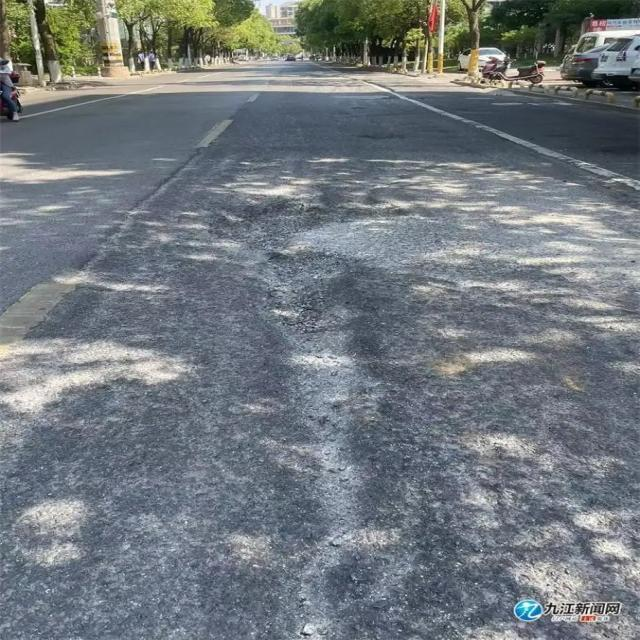Pothole: (202, 202, 434, 640), (364, 93, 431, 100), (356, 131, 400, 141)
